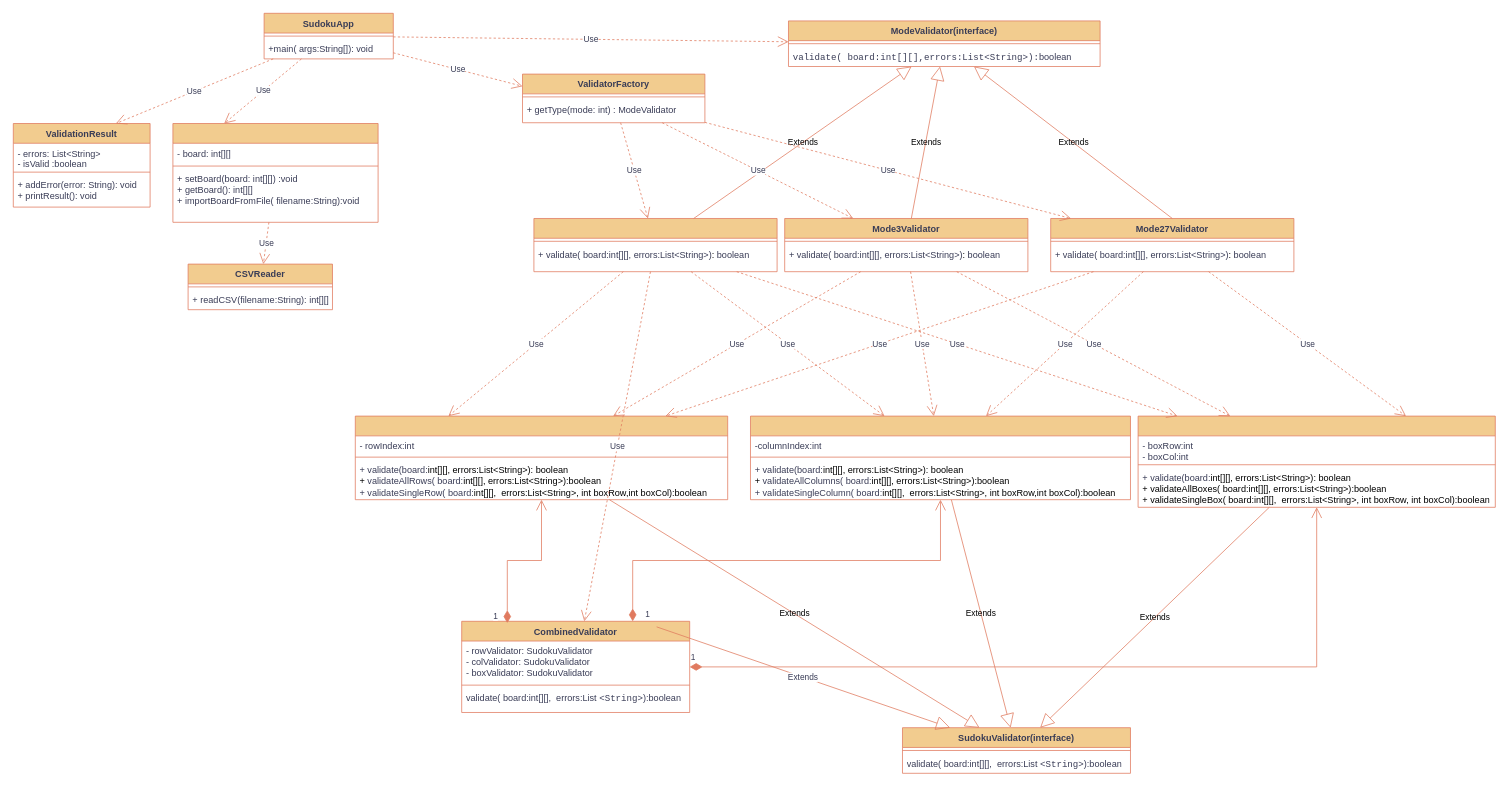
The diagram is 1509 pixels wide and 789 high, and some of its shapes have lost their labels. The shapes that lost their labels are listed below. From the top down, each one's box as (x1, y1, x2, y2) in pixels, then its label:
(172, 123, 378, 222): SudokuBoard
(533, 218, 777, 272): Mode0Validator
(355, 415, 728, 500): RowValidator
(750, 415, 1130, 500): ColValidator
(1137, 415, 1495, 507): BoxValidator
